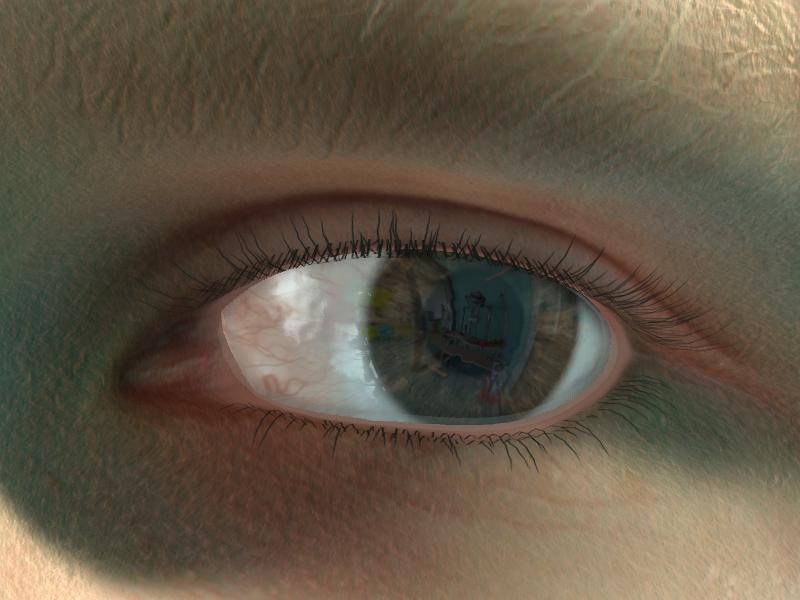eye: (366, 248, 576, 421)
